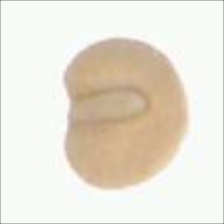L5: (68, 86, 154, 130), (178, 84, 193, 157)
L6: (58, 35, 191, 192)
